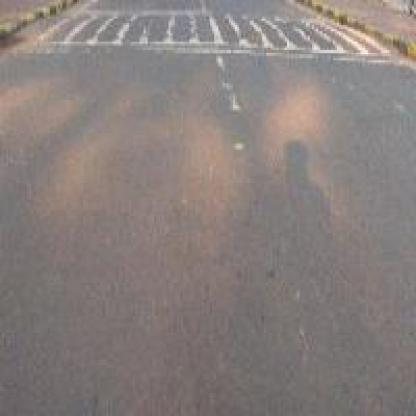Speed Bump: (47, 12, 386, 66)
